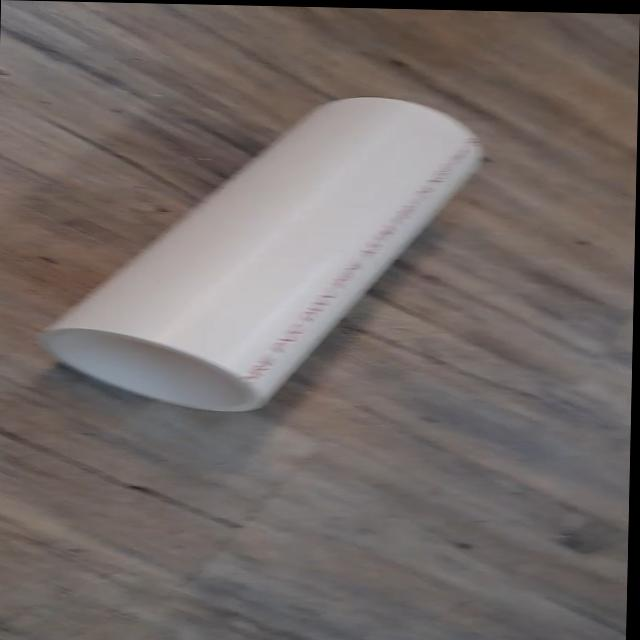CORAL: (26, 85, 509, 426)
